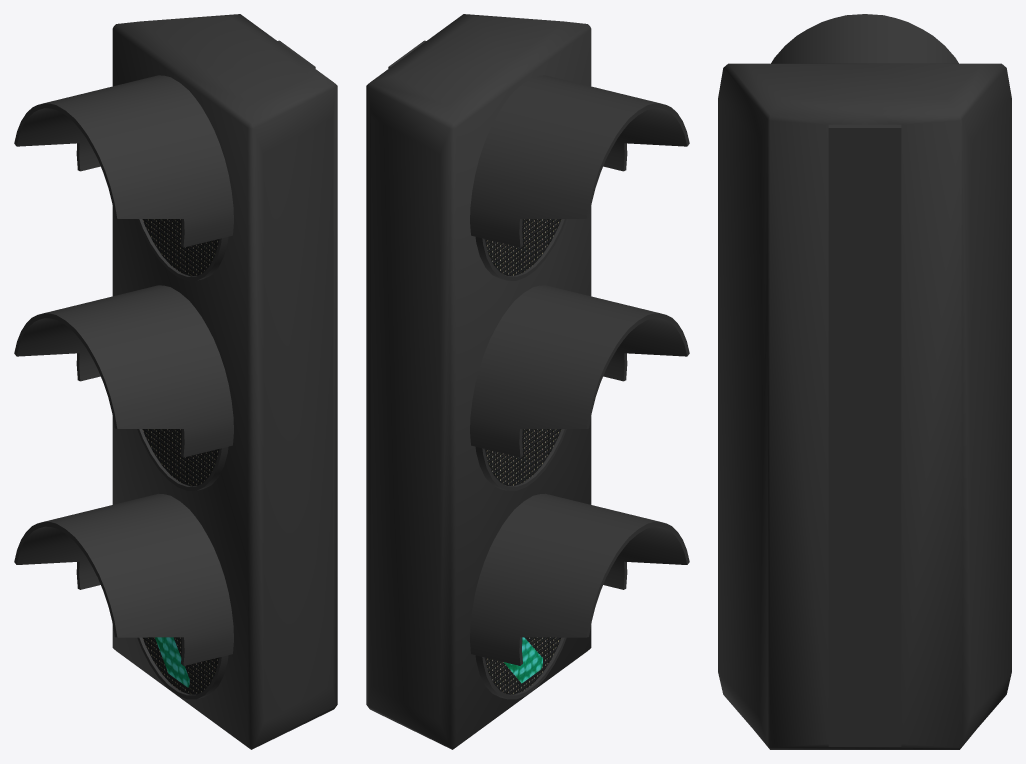
The model's file is 竖排左转灯_GreenLight.fbx.
3 views of the same model, side by side, from view 1: azimuth 30°, elevation 25°; view 2: azimuth 150°, elevation 25°; view 3: azimuth 270°, elevation 25° (orthographic).
Parts seen in each view (by area): view 1: 竖排左转灯_GreenLight; view 2: 竖排左转灯_GreenLight; view 3: 竖排左转灯_GreenLight.
Boxes of the visible parts, left/top/right/bottom form: 竖排左转灯_GreenLight: left=14, top=14, right=337, bottom=749; 竖排左转灯_GreenLight: left=366, top=14, right=689, bottom=749; 竖排左转灯_GreenLight: left=718, top=14, right=1011, bottom=749.
Size of the model in its own units: 0.6 by 1.58 by 0.65.
3 materials, 2 textured.
